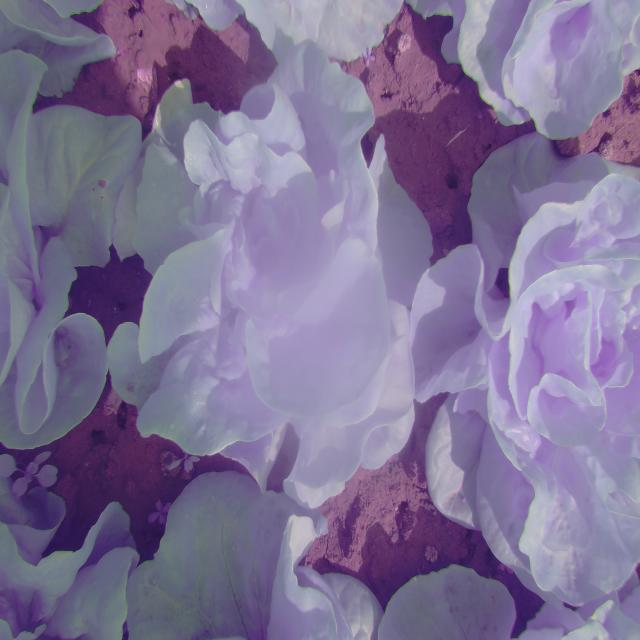vege: (113, 56, 420, 504)
